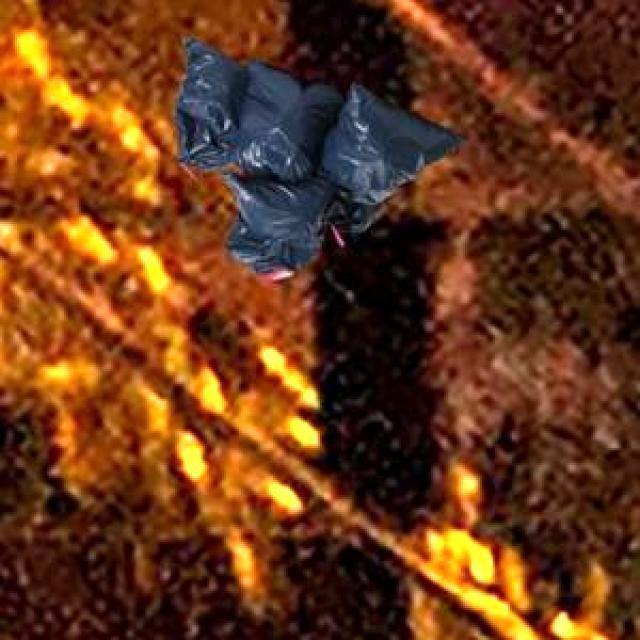Garbage_Bag: (170, 33, 464, 276)
